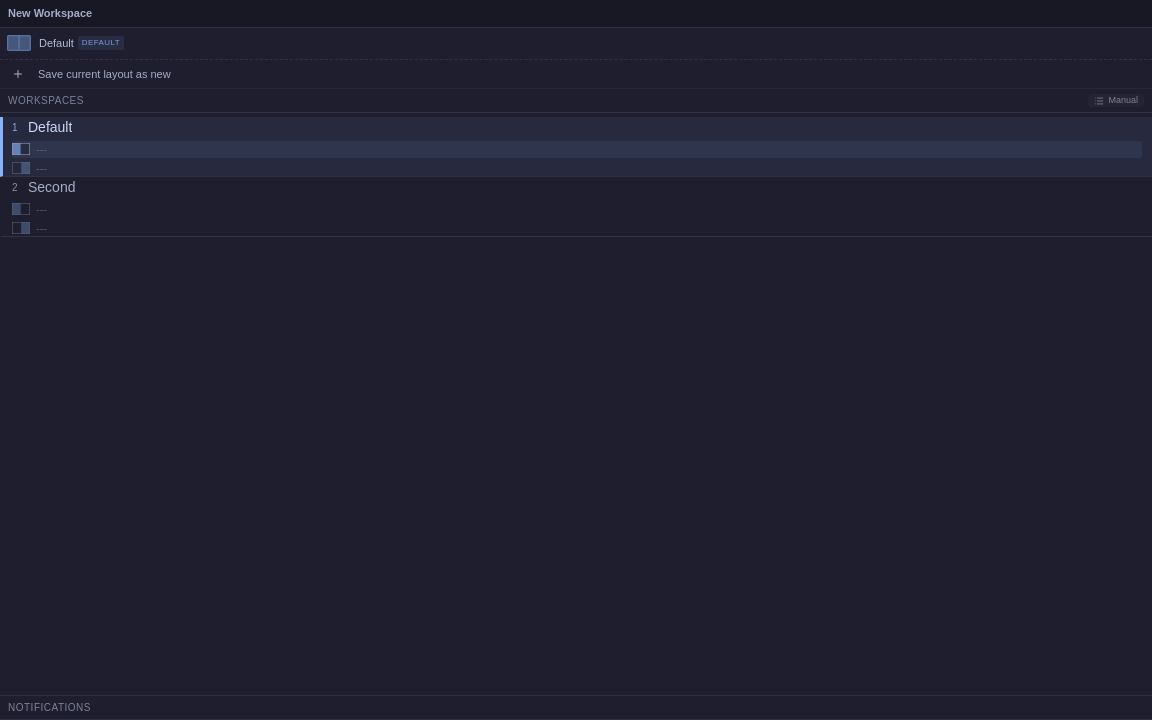
Test case: WorkspaceSelectorView › shows close button on workspace items when hovered and multiple exist
The width and height of the screenshot is (1152, 720).
Hover over the element with test id "workspace-item-ws-default": coordinates (576, 147) 0,117 -> 1151,177
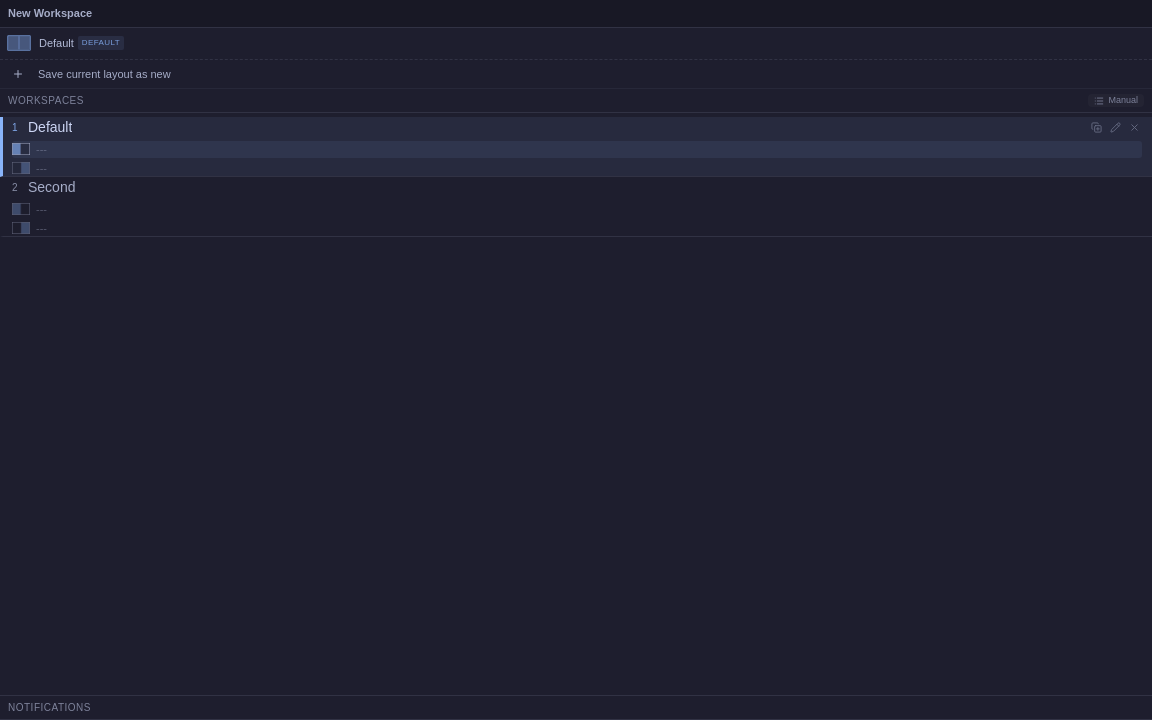
Now the button with test id "workspace-close-ws-default" is shown, box 1127,120 -> 1142,134
